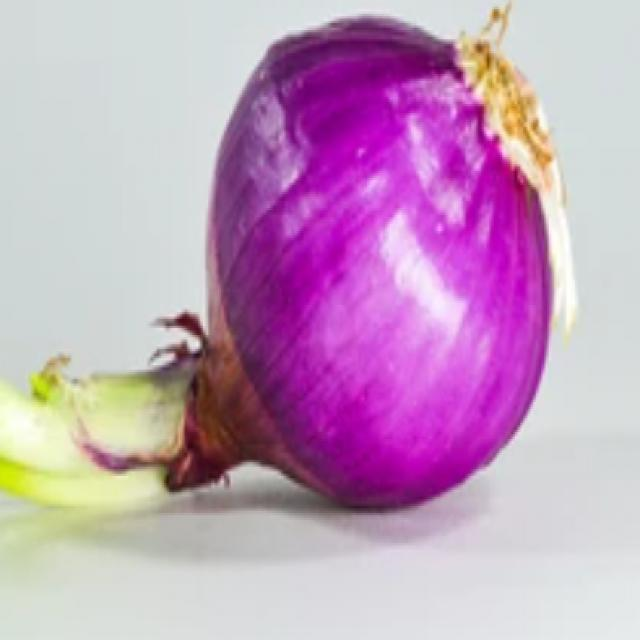sprouting: (4, 356, 232, 494)
